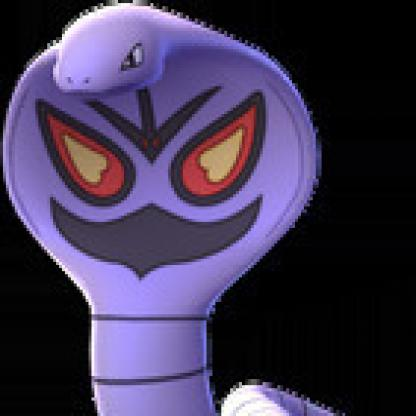Arbok: (13, 1, 349, 414)
